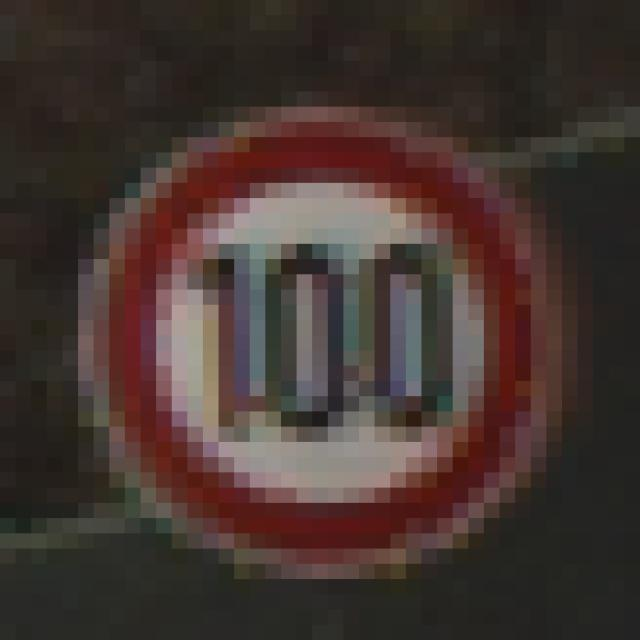Ograniczenie predkosci do 100: (95, 118, 547, 566)
